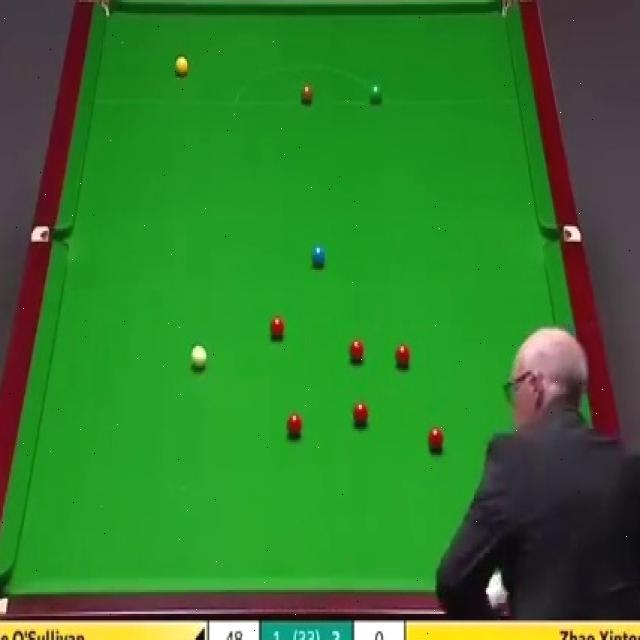blue-ball: (311, 241, 326, 269)
brown-ball: (300, 84, 316, 103)
green-ball: (368, 81, 384, 105)
red-ball: (427, 426, 445, 456), (286, 412, 304, 439), (347, 338, 365, 364), (352, 400, 368, 427), (396, 341, 411, 369), (269, 314, 284, 337)
white-ball: (190, 346, 207, 372)
yellow-ball: (175, 57, 189, 77)
